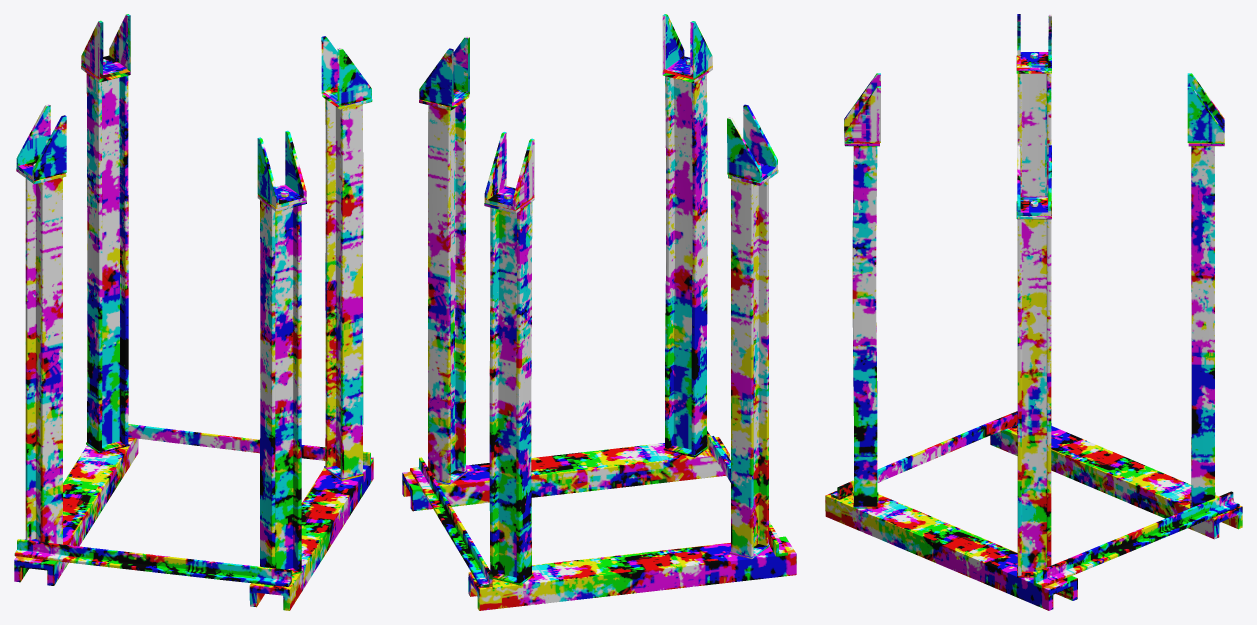
The model's file is sm_Container_Base_01_03.fbx.
3 renders of one model, left to right at view 1: azimuth 30°, elevation 25°; view 2: azimuth 150°, elevation 25°; view 3: azimuth 270°, elevation 25°, orthographic. The views are drawn at different scales.
Visible parts, largest first — view 1: sm_Container_Base_01_03_LOD0; view 2: sm_Container_Base_01_03_LOD0; view 3: sm_Container_Base_01_03_LOD0.
Part boxes in pixels (x1,y1,x2,y2): sm_Container_Base_01_03_LOD0: (14, 14, 373, 610); sm_Container_Base_01_03_LOD0: (402, 14, 796, 610); sm_Container_Base_01_03_LOD0: (825, 14, 1242, 610).
Bounding box in the file's own units: 205 × 203 × 237.
